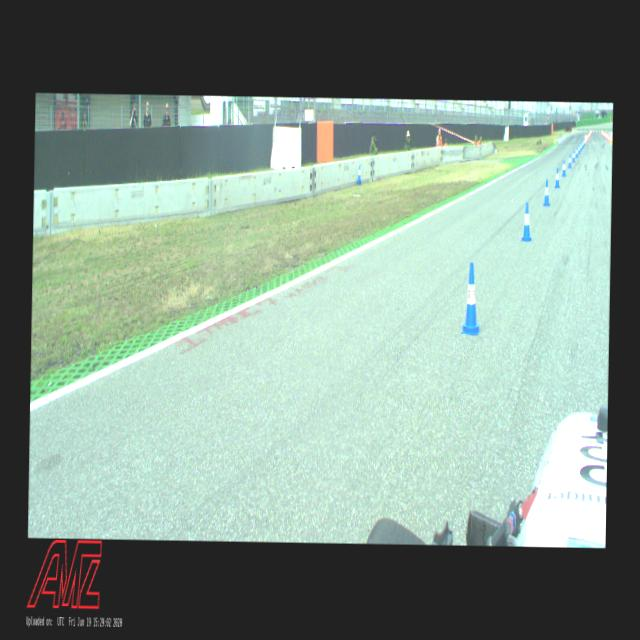blue_cone: (461, 261, 481, 335), (520, 200, 533, 242), (543, 178, 550, 206), (554, 166, 560, 188), (562, 158, 566, 176), (357, 163, 361, 181), (568, 153, 572, 169), (572, 149, 575, 163), (575, 146, 578, 158), (578, 144, 580, 154), (580, 142, 582, 152), (581, 140, 583, 150)
yellow_cone: (610, 136, 612, 144)
